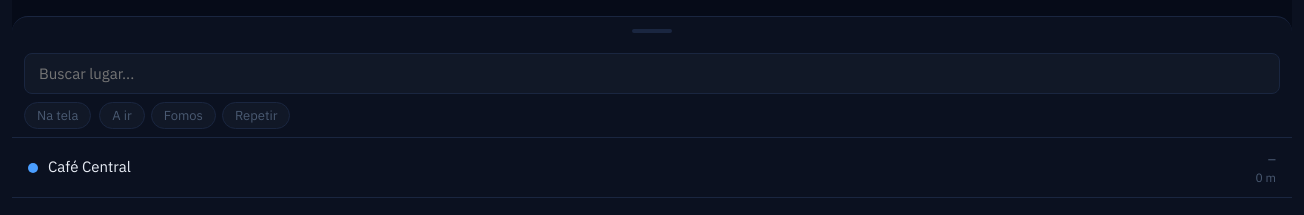
Scenario: BottomSheet › filters places by search query
Type "zzz" into the field with placeholder "Buscar lugar..." at (652,74), box [24,53,1280,94]
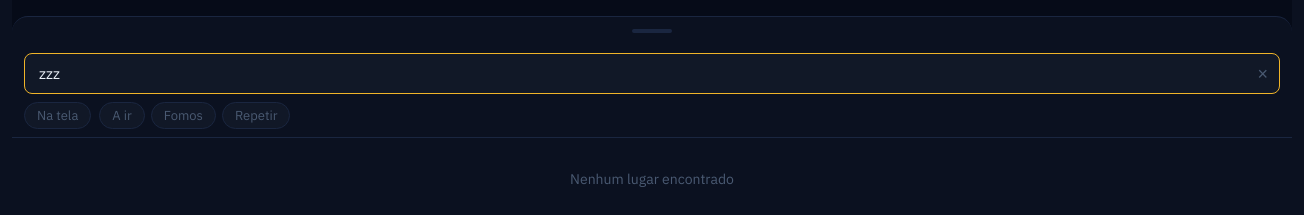
Check: the button "Café Central" is gone
